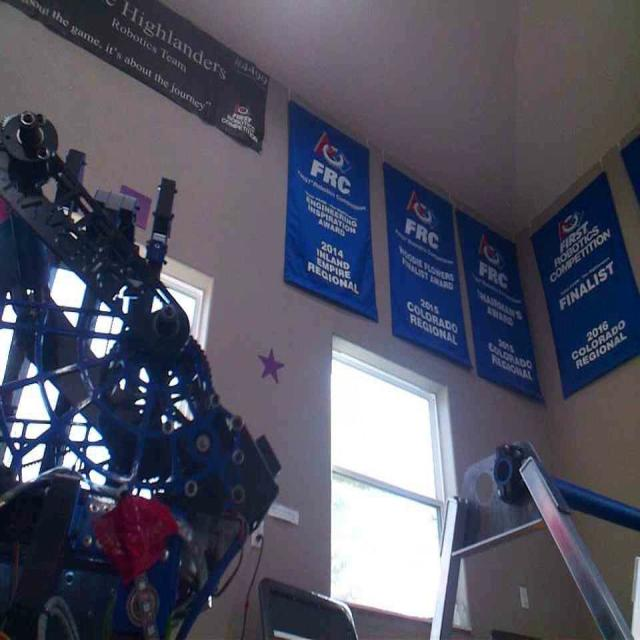star_purple: (258, 346, 286, 381)
